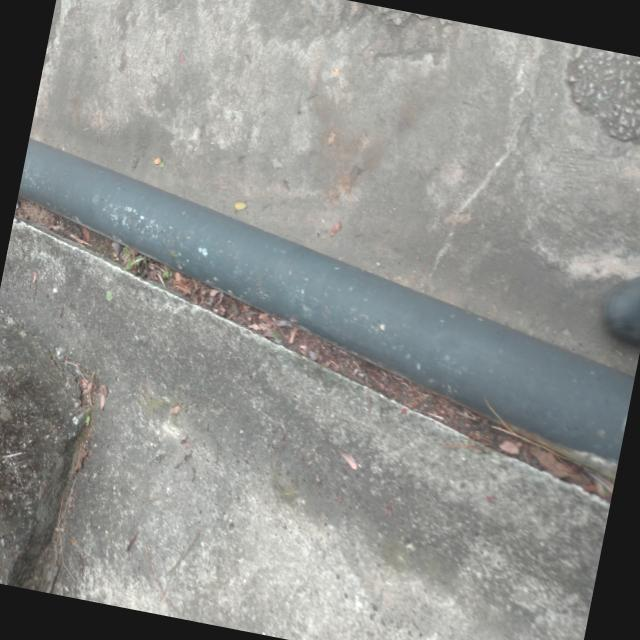gas: (0, 135, 640, 478)
